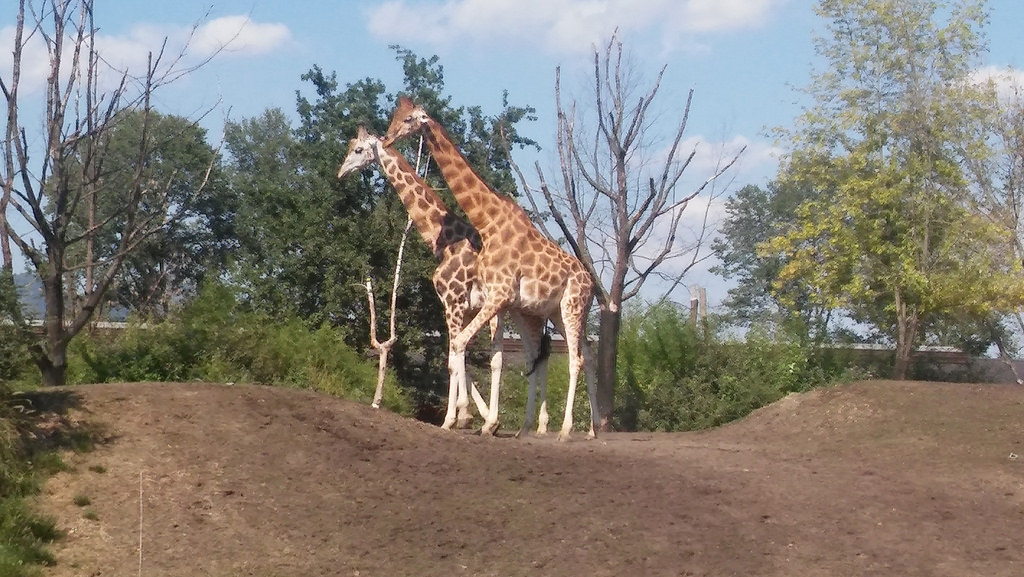giraffe: (313, 121, 552, 478), (394, 91, 613, 439)
